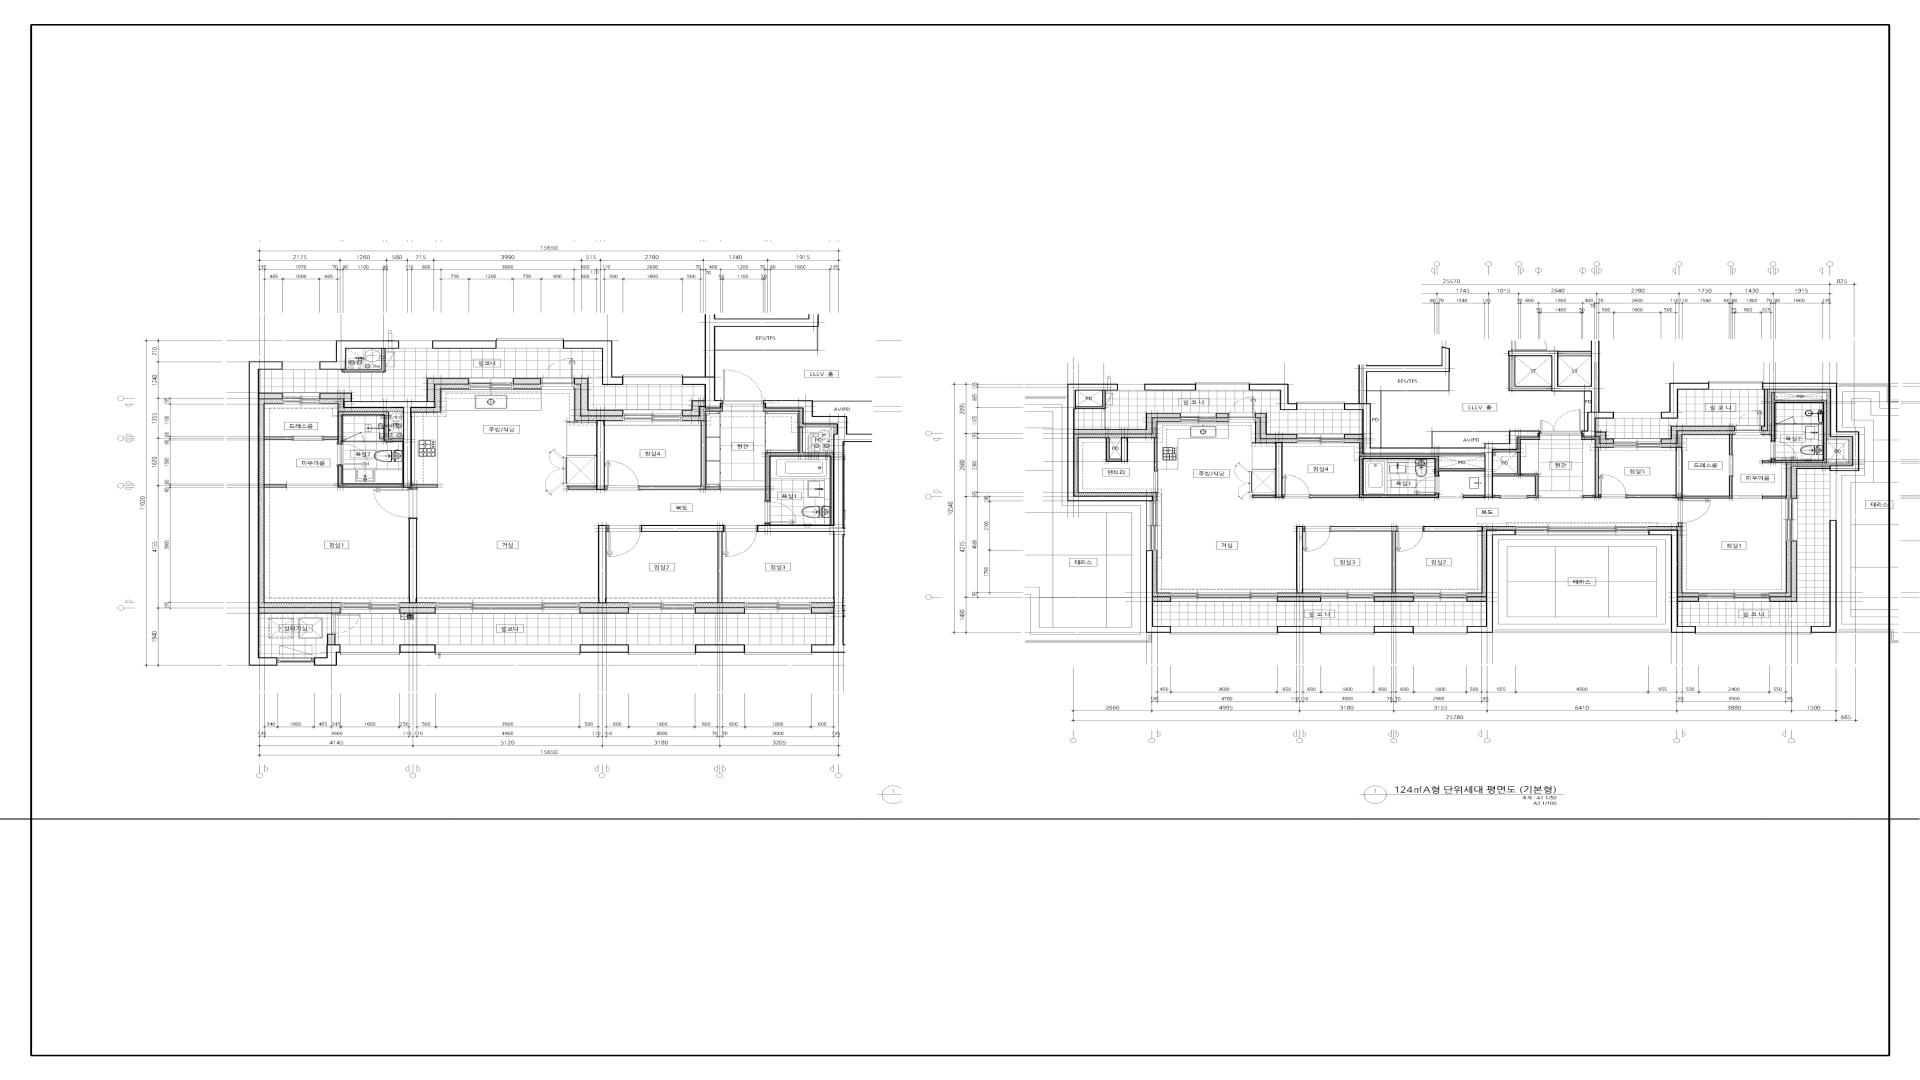door: (723, 369, 764, 404), (373, 488, 417, 518), (607, 525, 642, 556), (541, 357, 574, 390), (724, 525, 758, 556), (605, 460, 640, 491), (1540, 410, 1581, 434), (1677, 500, 1710, 522), (338, 443, 369, 465), (1303, 526, 1331, 551), (1735, 410, 1762, 435), (1229, 397, 1255, 422), (766, 501, 796, 522), (1398, 526, 1423, 551), (1283, 475, 1309, 498), (1601, 475, 1627, 498), (332, 613, 360, 634), (1414, 476, 1440, 493), (1771, 442, 1796, 459), (343, 433, 364, 442), (1778, 417, 1796, 425), (293, 436, 323, 440), (1729, 455, 1734, 476), (1154, 471, 1158, 492), (1501, 496, 1527, 498)
wall: (1344, 347, 1540, 498), (758, 401, 873, 653), (319, 378, 469, 488), (683, 314, 819, 409), (1509, 340, 1614, 438), (1067, 384, 1153, 501), (249, 361, 282, 666), (1762, 382, 1859, 471), (1309, 456, 1485, 498), (766, 427, 833, 525), (642, 525, 724, 603), (1367, 372, 1449, 447), (640, 421, 721, 489), (1627, 447, 1733, 500), (1466, 530, 1516, 633), (1648, 530, 1696, 633), (1762, 393, 1828, 463), (1331, 526, 1398, 593), (1811, 520, 1837, 633), (564, 340, 622, 385), (568, 421, 605, 491), (715, 327, 819, 351), (319, 340, 400, 369), (1075, 413, 1180, 434), (1493, 452, 1539, 498), (1146, 550, 1171, 633), (574, 378, 622, 417), (1662, 382, 1709, 419), (1253, 442, 1283, 498), (1770, 541, 1797, 603), (1509, 356, 1551, 392), (1662, 426, 1735, 444), (1249, 384, 1298, 410), (1791, 465, 1829, 498), (1432, 431, 1509, 447), (1255, 413, 1298, 439), (343, 348, 385, 372), (1582, 447, 1601, 498), (409, 518, 417, 603), (599, 525, 607, 603), (314, 645, 340, 666), (1076, 390, 1105, 409), (433, 340, 496, 348), (1106, 438, 1127, 462), (1296, 526, 1303, 593), (258, 608, 340, 613), (695, 645, 745, 653), (682, 401, 705, 417), (580, 645, 628, 653), (1145, 384, 1196, 390), (695, 607, 745, 613), (1423, 526, 1484, 531), (1276, 626, 1321, 633), (1278, 596, 1321, 603), (400, 645, 435, 653), (1762, 389, 1768, 431), (1374, 626, 1414, 633), (1374, 596, 1414, 603), (580, 608, 629, 613), (1596, 431, 1614, 444), (400, 607, 435, 613), (513, 378, 541, 385), (1559, 351, 1590, 356), (258, 393, 282, 400), (1466, 596, 1486, 603), (1679, 596, 1698, 603), (1154, 438, 1158, 471), (1153, 596, 1171, 603), (811, 608, 833, 613), (264, 436, 293, 440), (1344, 434, 1362, 439), (264, 484, 287, 488), (327, 634, 335, 645), (1729, 434, 1733, 455), (814, 401, 872, 402), (1216, 413, 1229, 418), (1762, 496, 1787, 498), (323, 436, 338, 440), (1464, 496, 1485, 498), (1584, 392, 1585, 431), (364, 440, 384, 442), (1493, 496, 1501, 498), (1679, 524, 1683, 527), (766, 522, 770, 525)
window: (435, 603, 580, 615), (435, 645, 580, 655), (1516, 526, 1648, 535), (1171, 592, 1276, 603), (1696, 626, 1811, 634), (1171, 626, 1276, 634), (629, 603, 695, 615), (745, 603, 811, 615), (1698, 592, 1770, 603), (628, 645, 696, 655), (622, 410, 683, 421), (622, 375, 683, 385), (496, 339, 564, 348), (340, 603, 400, 613), (745, 645, 811, 654), (1146, 501, 1158, 550), (1414, 592, 1466, 603), (1321, 592, 1374, 603), (340, 645, 400, 654), (468, 378, 513, 390), (1785, 498, 1797, 541), (1614, 438, 1662, 448), (282, 393, 319, 405), (1298, 434, 1344, 443), (1709, 381, 1762, 389), (1196, 382, 1249, 390), (1414, 626, 1466, 634), (1321, 626, 1374, 634), (1298, 402, 1344, 410), (1180, 413, 1216, 422), (1830, 471, 1837, 520), (277, 658, 314, 666), (282, 361, 319, 369), (400, 340, 433, 348), (1614, 413, 1660, 418), (1118, 384, 1145, 390)
